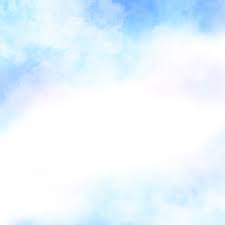sky: (1, 2, 225, 222)
